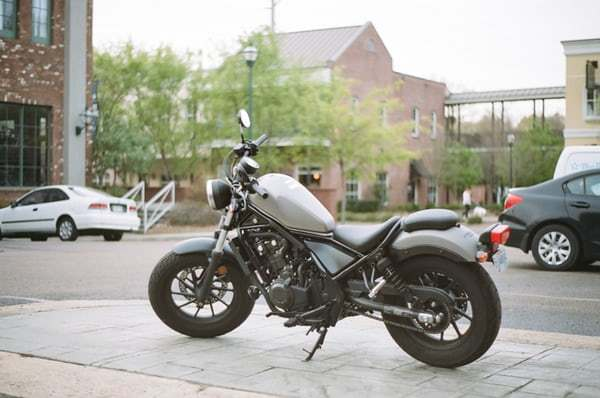24_label: (142, 102, 532, 371)
